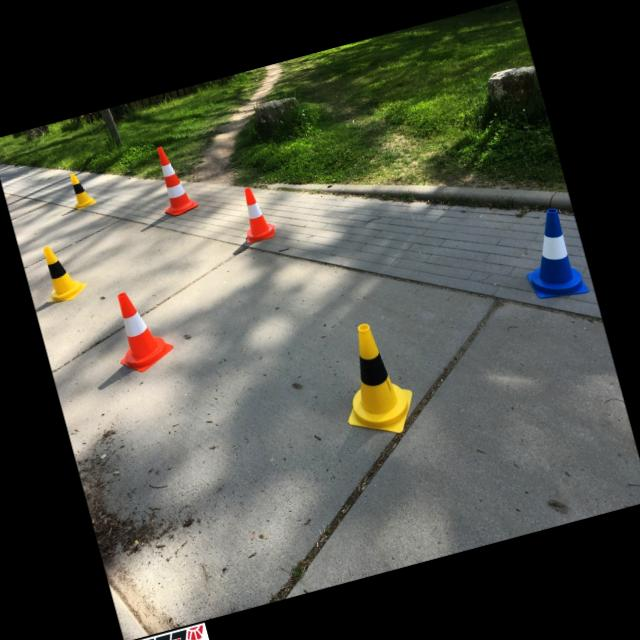blue_cone: (511, 204, 589, 306)
large_orange_cone: (148, 141, 199, 218)
orange_cone: (102, 283, 178, 377), (232, 184, 276, 244)
yellow_cone: (324, 316, 421, 444), (34, 238, 89, 304), (66, 170, 96, 210)
